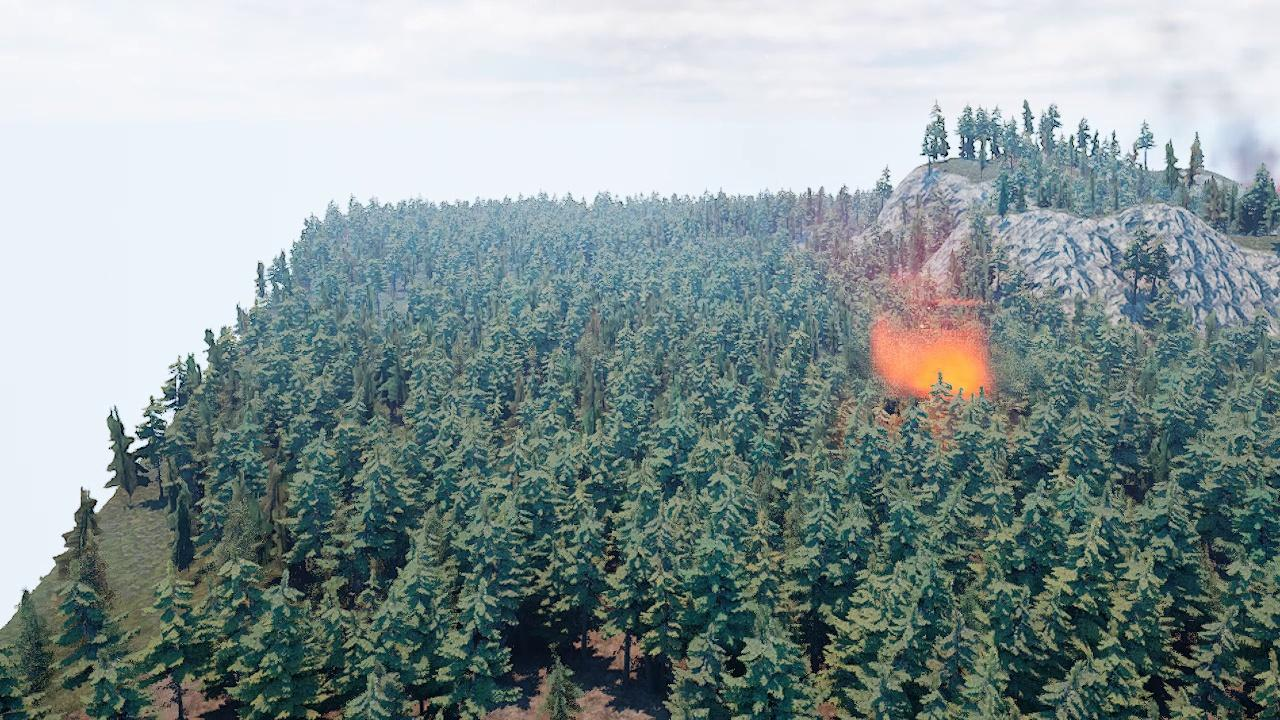fire: (878, 332, 993, 404)
smoke: (801, 169, 990, 369), (1141, 3, 1276, 185)
